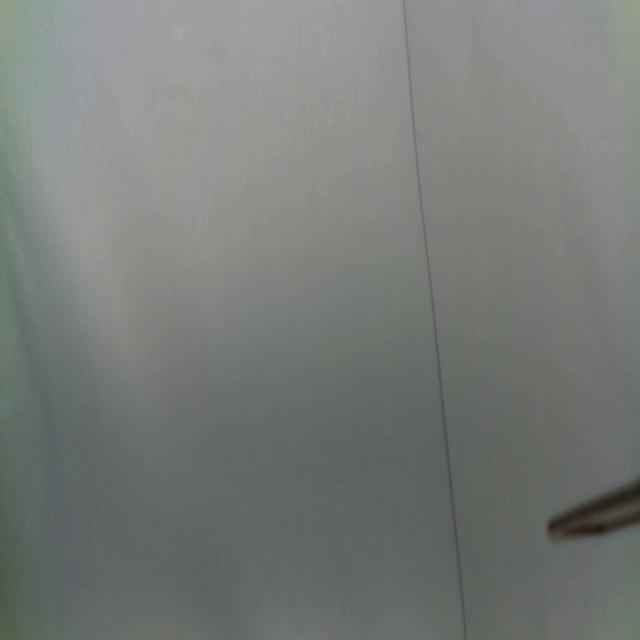crease: (401, 0, 470, 640)
